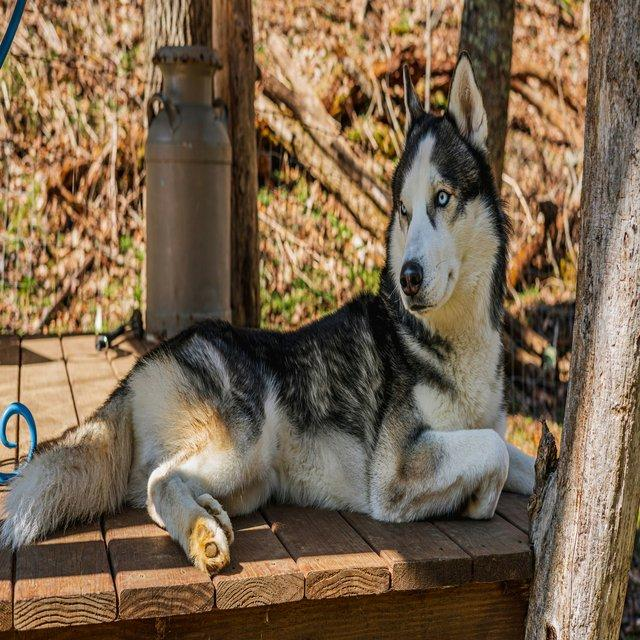husky: (0, 50, 538, 575)
